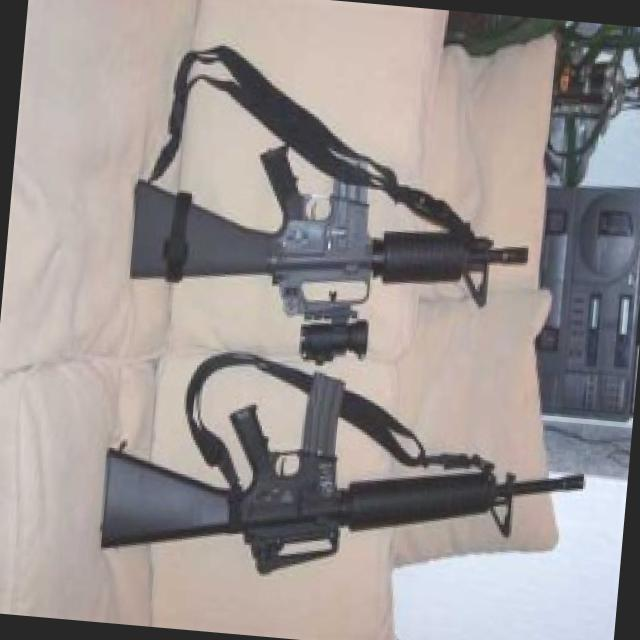long weapon: (74, 352, 596, 620), (84, 93, 576, 375)
